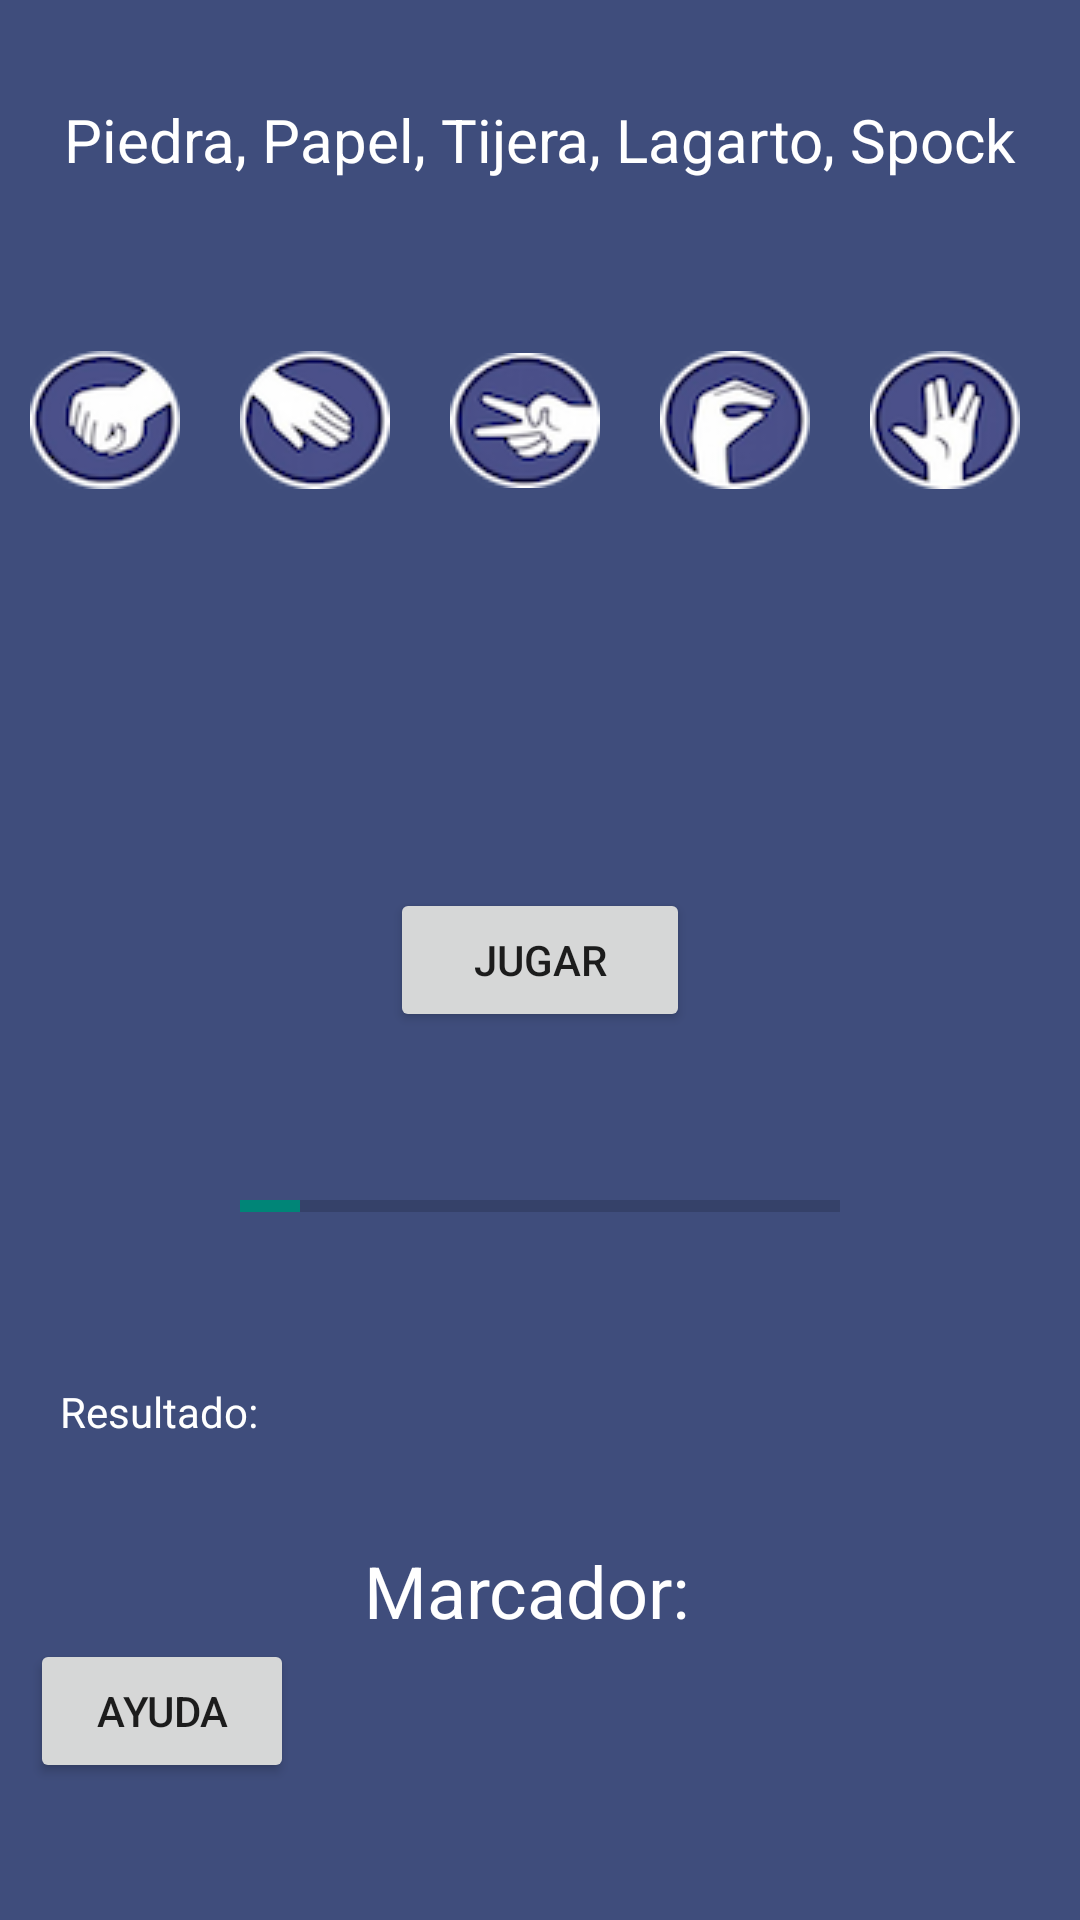

Screen size 1080x1920. Icon name, then its box in pixels as {"x1": x1, "y1": y1, "x2": x2, "y2": y2}:
lagarto: {"x1": 660, "y1": 351, "x2": 810, "y2": 489}
papel: {"x1": 240, "y1": 351, "x2": 390, "y2": 489}
piedra: {"x1": 30, "y1": 351, "x2": 180, "y2": 489}
spock: {"x1": 870, "y1": 351, "x2": 1020, "y2": 489}
tijera: {"x1": 450, "y1": 353, "x2": 600, "y2": 488}
